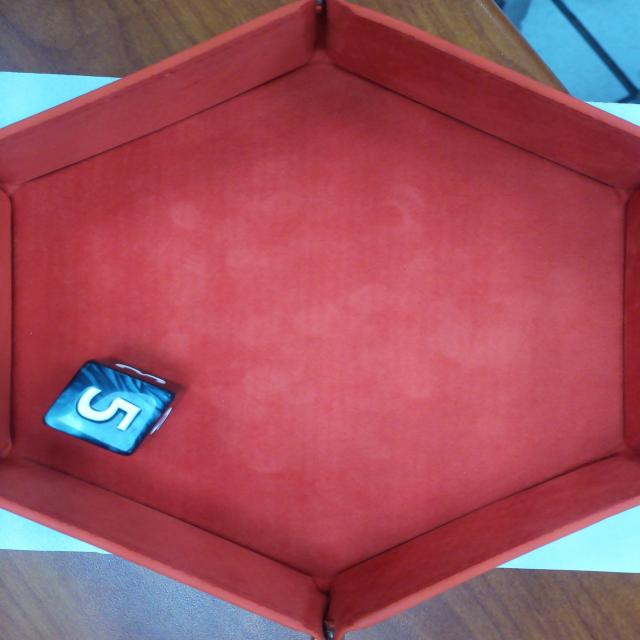dice: (42, 358, 182, 454)
